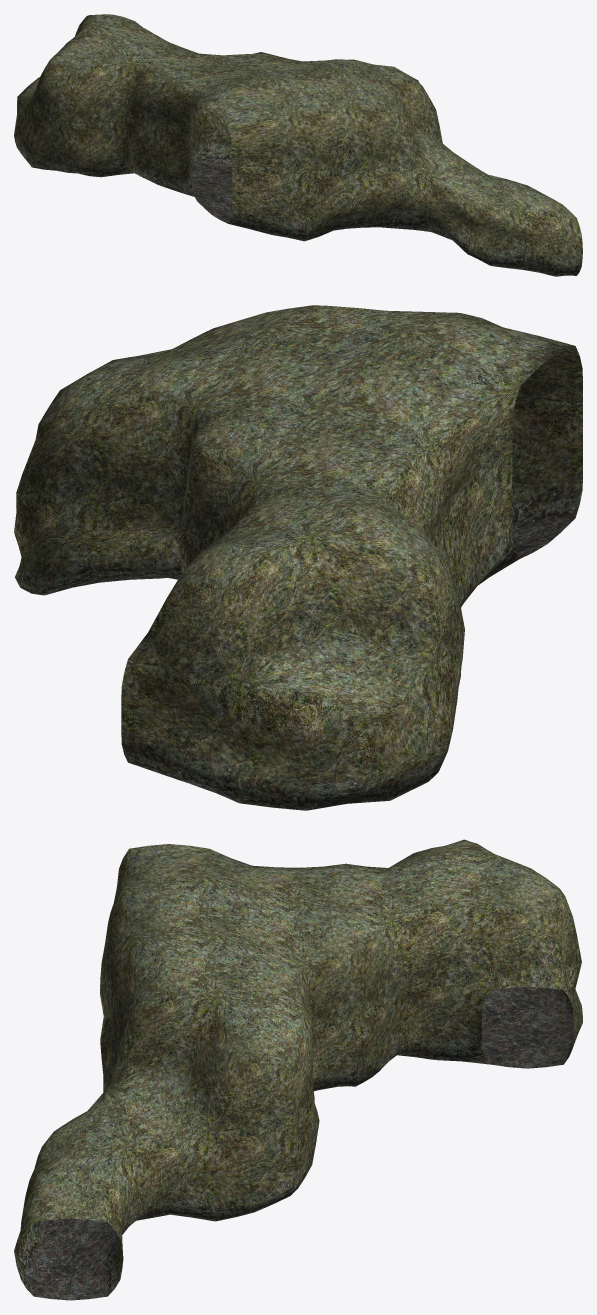
File: thm_all_cave_s03_damprock_mirror_r2_r2.fbx
3 renders of one model, top to bottom at view 1: azimuth 30°, elevation 25°; view 2: azimuth 150°, elevation 25°; view 3: azimuth 270°, elevation 25°, orthographic. The views are drawn at different scales.
Visible parts, largest first — view 1: mesh_node; view 2: mesh_node; view 3: mesh_node.
Boxes of the visible parts, x1,y1,x2,y2 form: mesh_node: [14, 14, 582, 276]; mesh_node: [14, 305, 582, 810]; mesh_node: [14, 839, 582, 1300].
Size of the model in its own units: 48.79 by 26.36 by 49.81.
